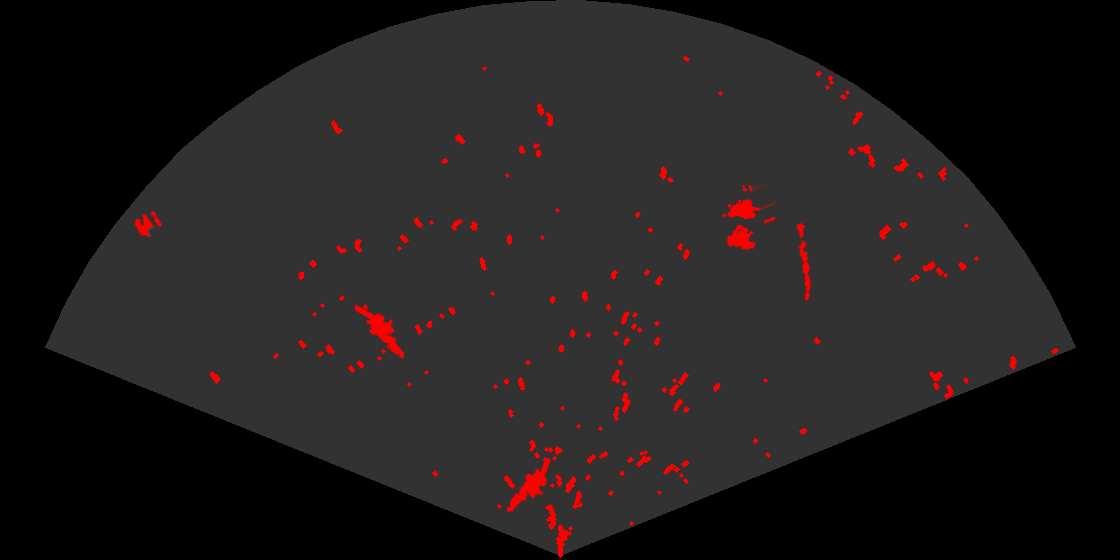ball: (133, 209, 163, 239)
cage: (720, 185, 775, 252)
chain: (795, 220, 813, 303)
frogman: (355, 303, 406, 360), (505, 460, 553, 515)
